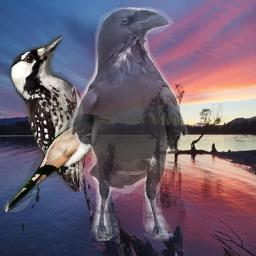Crow: (69, 7, 189, 241)
Cuckoo: (4, 114, 111, 212)
Woodpecker: (7, 35, 85, 192)
